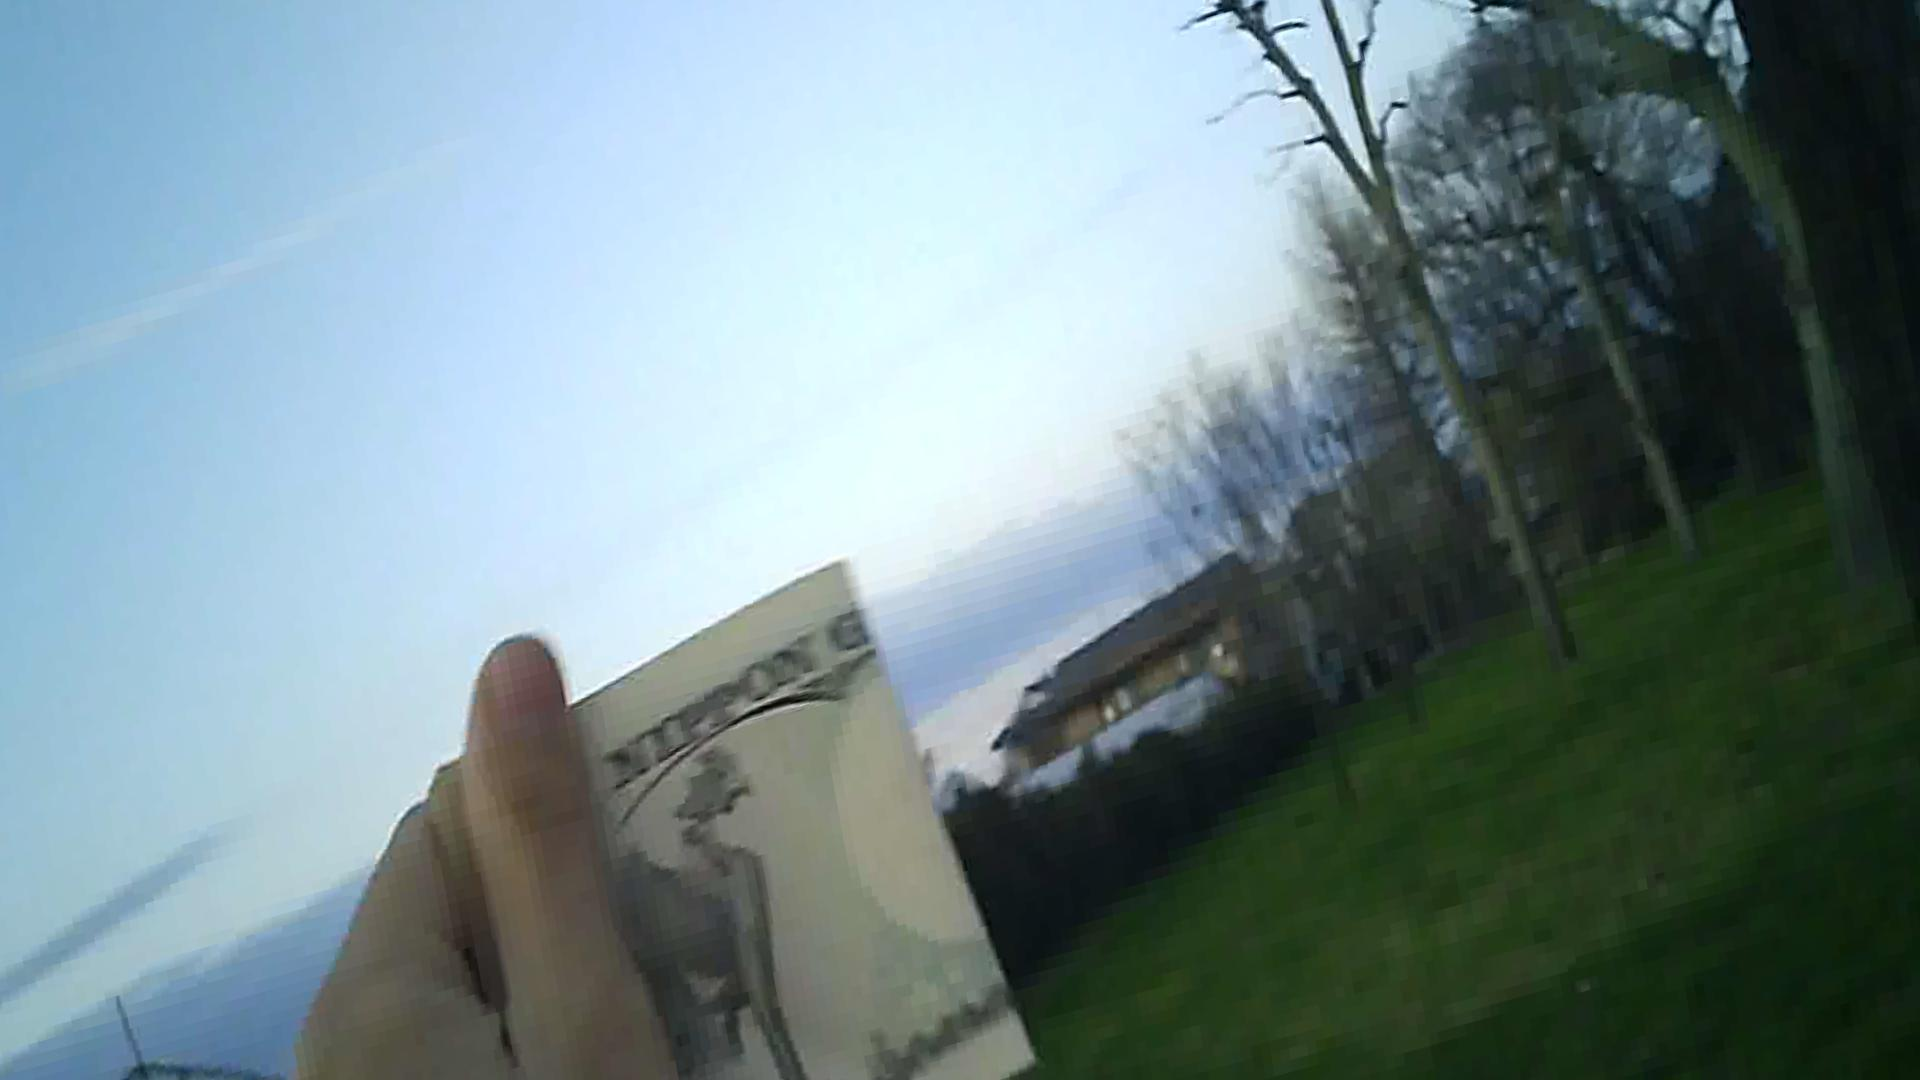10,000 Yen: (443, 564, 1015, 1079)
